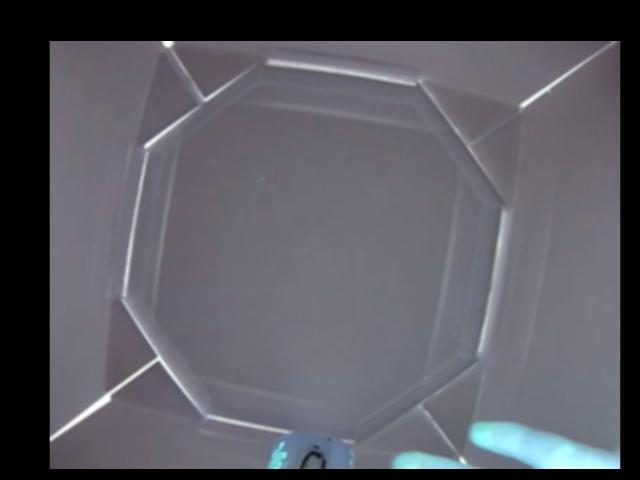Bottle: (269, 431, 356, 468)
